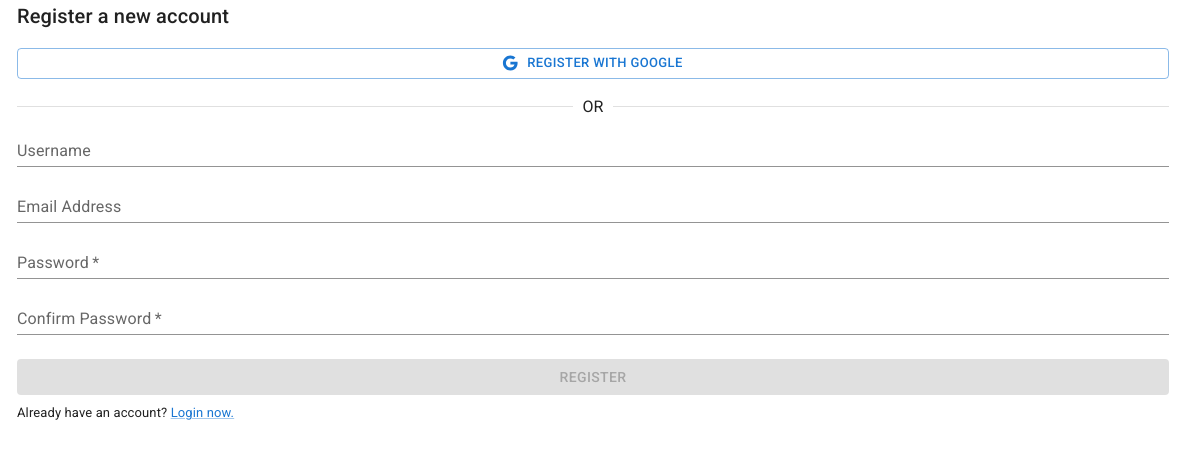
Test: <Register /> › Attempting to register with mismatched passwords displays error message
This screenshot has width=1187, height=464.
Type "update" into the field with placeholder "Username".
click(593, 151); type("update")  # box [17,135,1169,167]
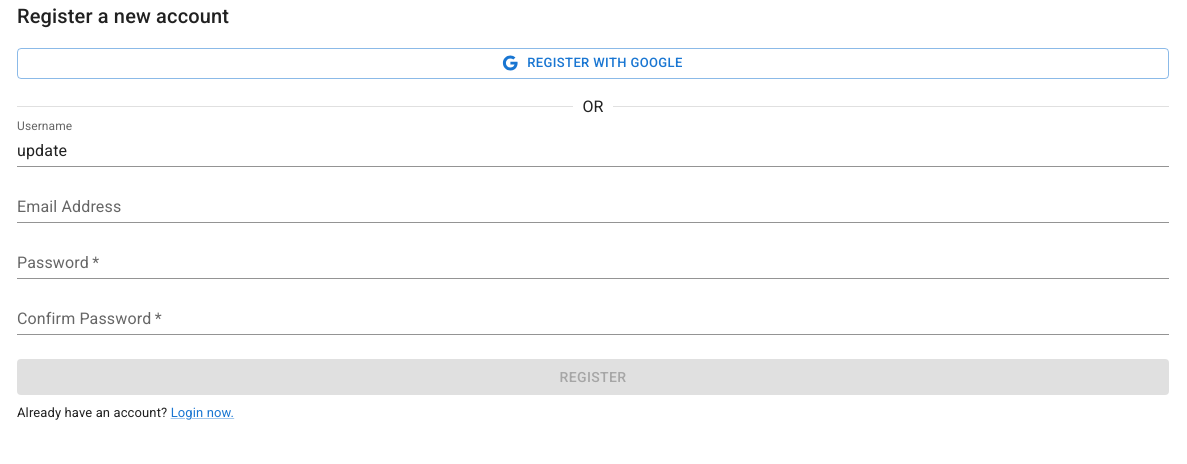
Type "update" into the field with placeholder "Email Address".
click(593, 207); type("update")  # box [17,191,1169,223]
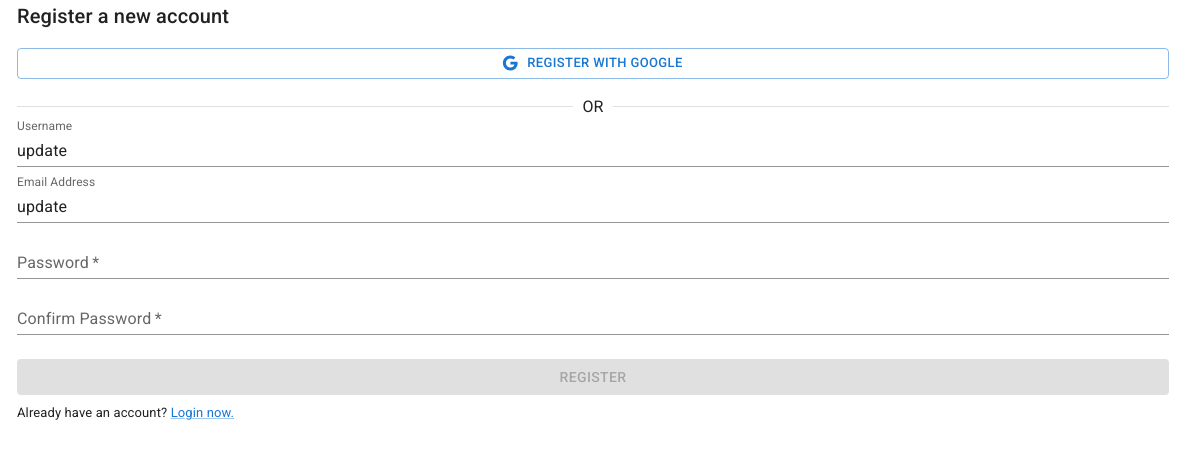
Type "update" into the password field with placeholder "Password".
click(593, 263); type("update")  # box [17,247,1169,279]
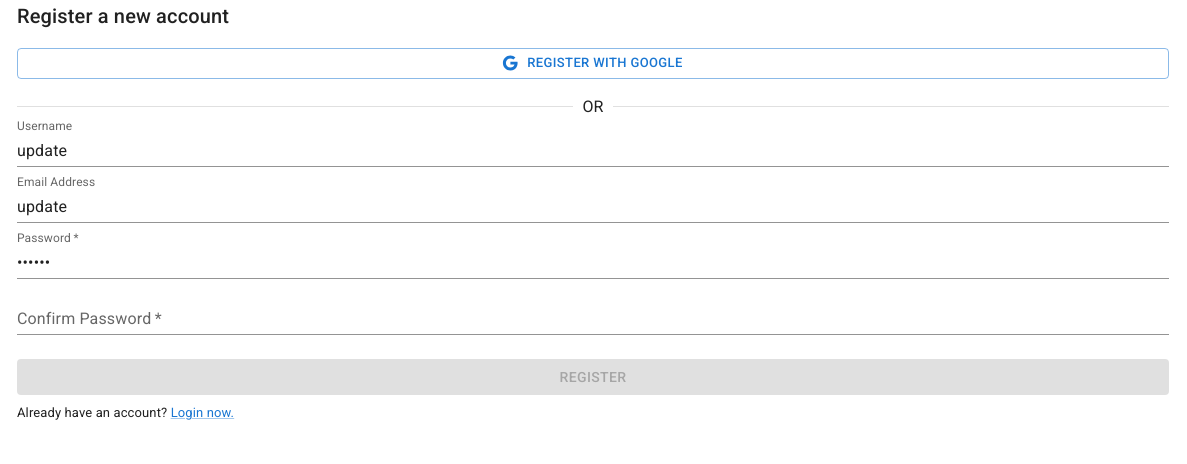
Type "mismatch" into the password field with placeholder "Confirm Password".
click(593, 319); type("mismatch")  # box [17,303,1169,335]
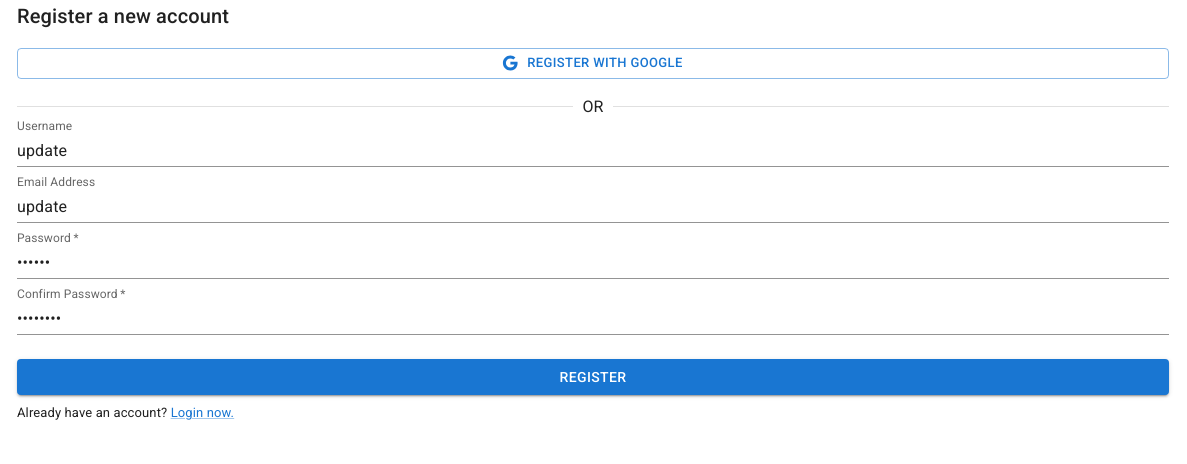
Click the button "Register".
click(593, 377)  # box [17,359,1169,395]
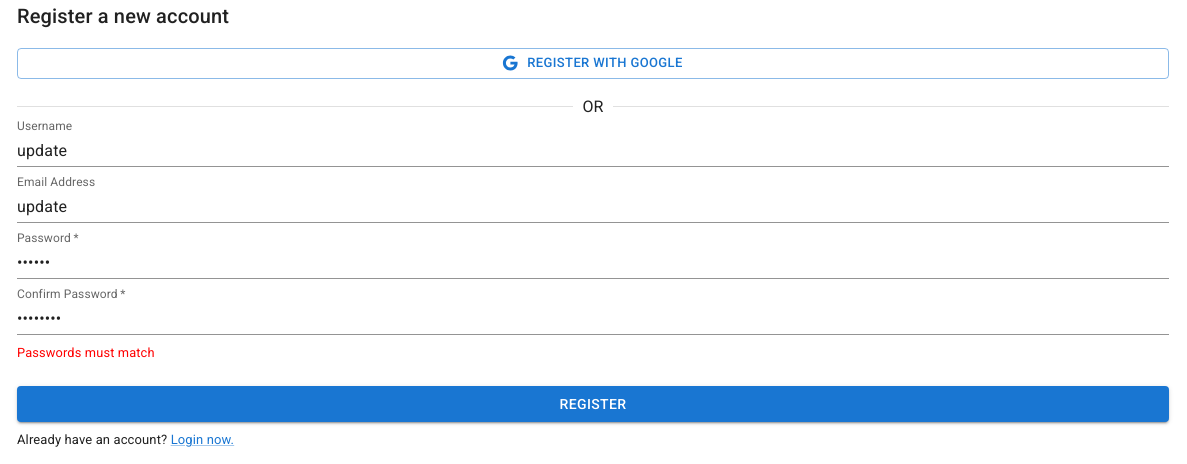
Expected: the list item "Passwords must match" is shown, [17,345,155,360]
